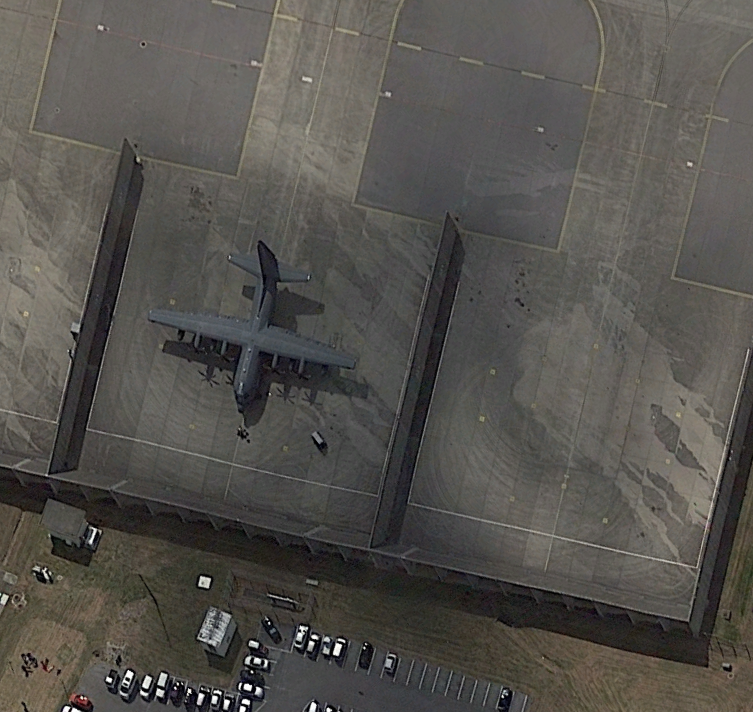A2: (142, 231, 361, 421)
